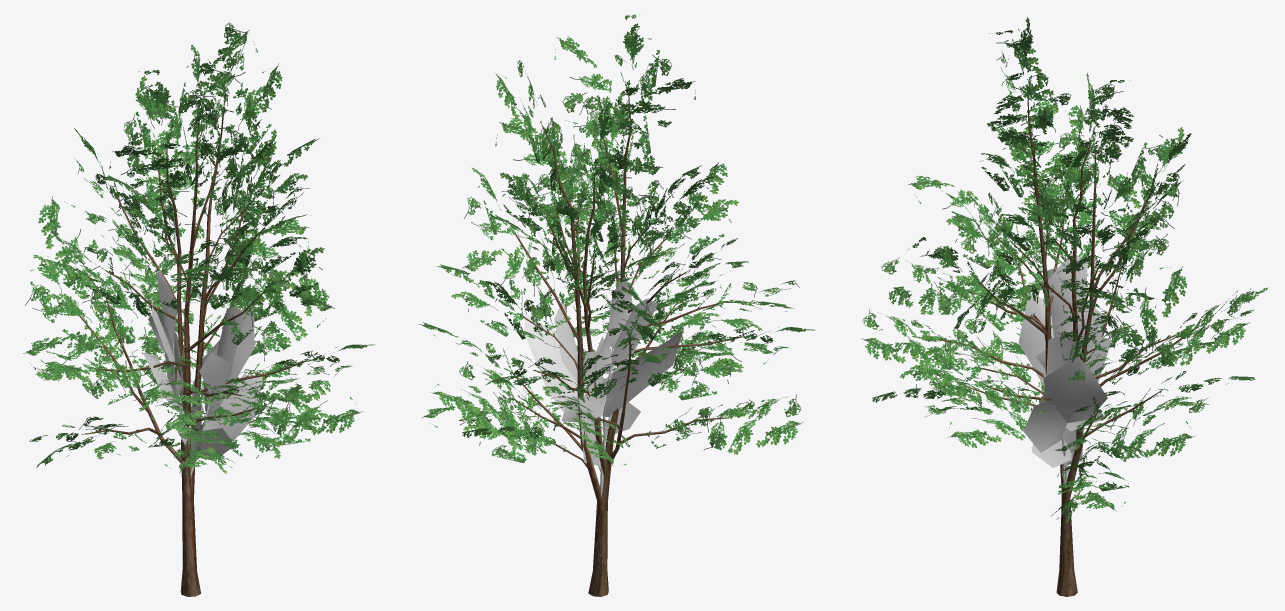
File: tree.dae
The picture shows the model from 3 angles, left to right: view 1: azimuth 30°, elevation 25°; view 2: azimuth 150°, elevation 25°; view 3: azimuth 270°, elevation 25°; orthographic projection.
Parts seen in each view (by area): view 1: Sorbus_aucuparia_B_000, Sorbus_shoot_B_001; view 2: Sorbus_aucuparia_B_000, Sorbus_shoot_B_001; view 3: Sorbus_aucuparia_B_000, Sorbus_shoot_B_001.
Part boxes in pixels (left/top/right/bottom): Sorbus_aucuparia_B_000: left=23, top=22, right=374, bottom=596; Sorbus_shoot_B_001: left=141, top=269, right=262, bottom=479; Sorbus_aucuparia_B_000: left=418, top=14, right=815, bottom=596; Sorbus_shoot_B_001: left=524, top=277, right=683, bottom=496; Sorbus_aucuparia_B_000: left=861, top=17, right=1268, bottom=596; Sorbus_shoot_B_001: left=1018, top=251, right=1111, bottom=484.
Bounding box in the file's own units: 4.26 × 4.32 × 6.39.
Materials: 1 (1 with a texture image).
